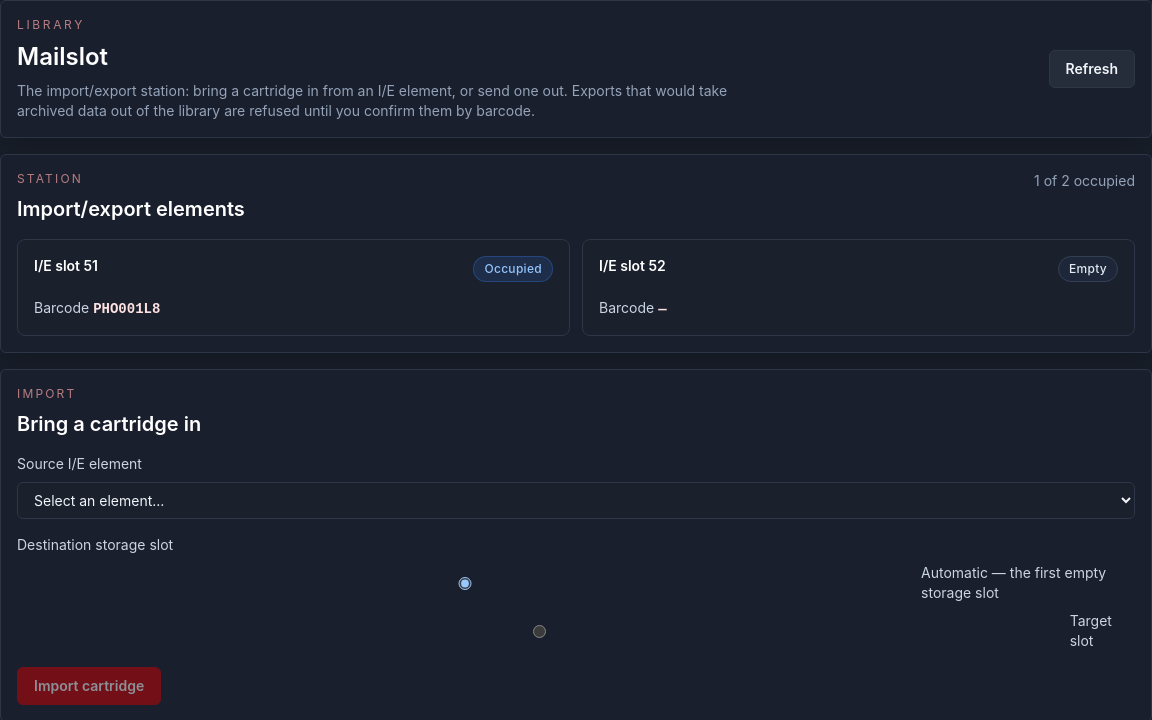
Mailslot › imports from a chosen I/E element, letting the backend pick the storage slot
Select "I/E slot 51 — PHO001L8" in the dropdown labelled "Source I/E element" at {"x": 576, "y": 500}, box [17,482,1135,519]
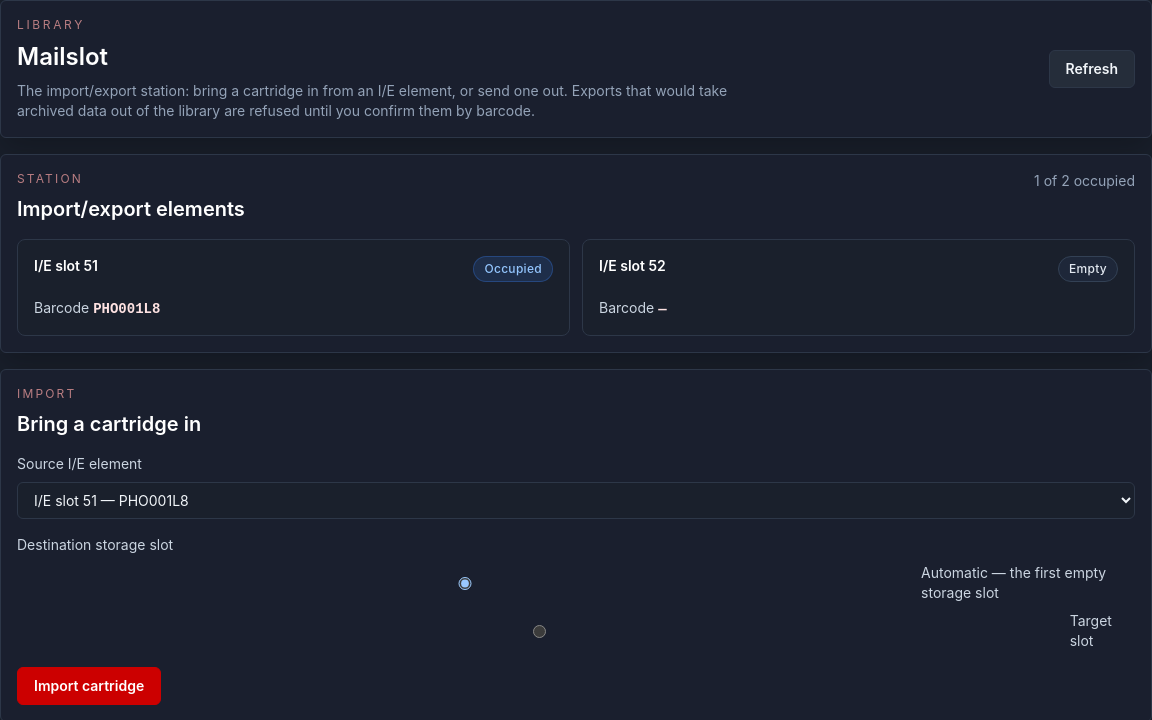
Click the button "Import cartridge" at {"x": 89, "y": 686}, box [17,667,161,705]
(page scrolled)
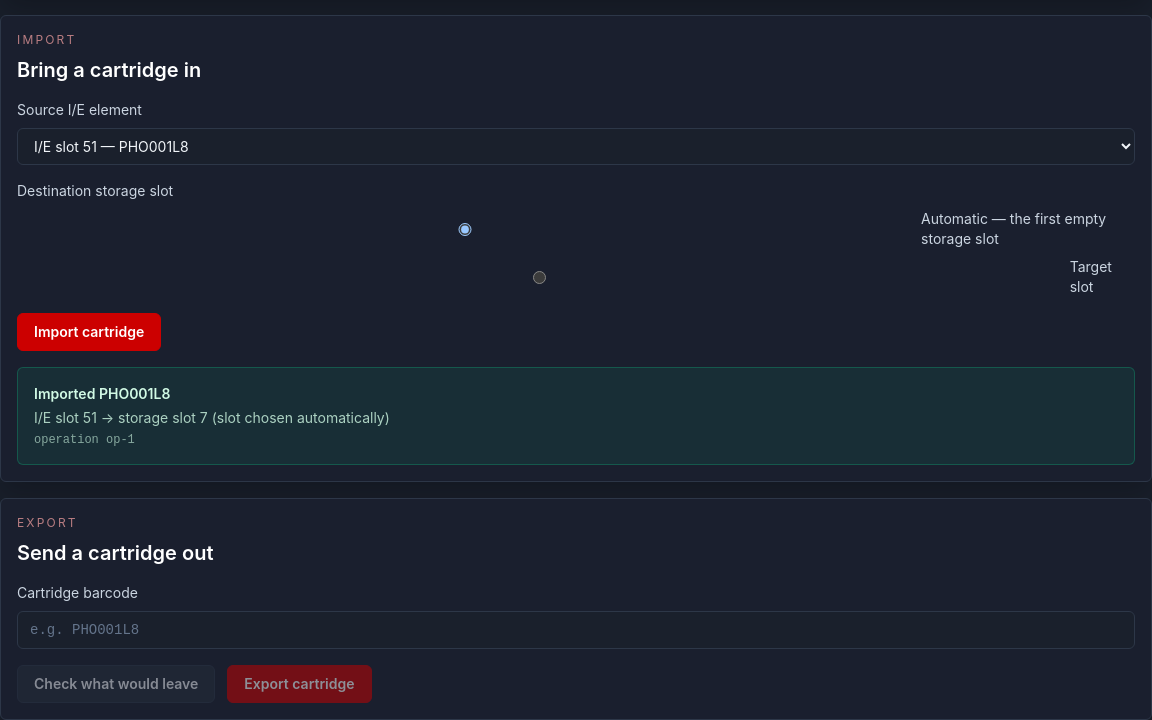
Result: the text "Imported PHO001L8" is shown at [34,385,170,402]
Result: the text "I/E slot 51 → storage slot 7 (slot chosen automatically)" is shown at [34,409,390,426]
